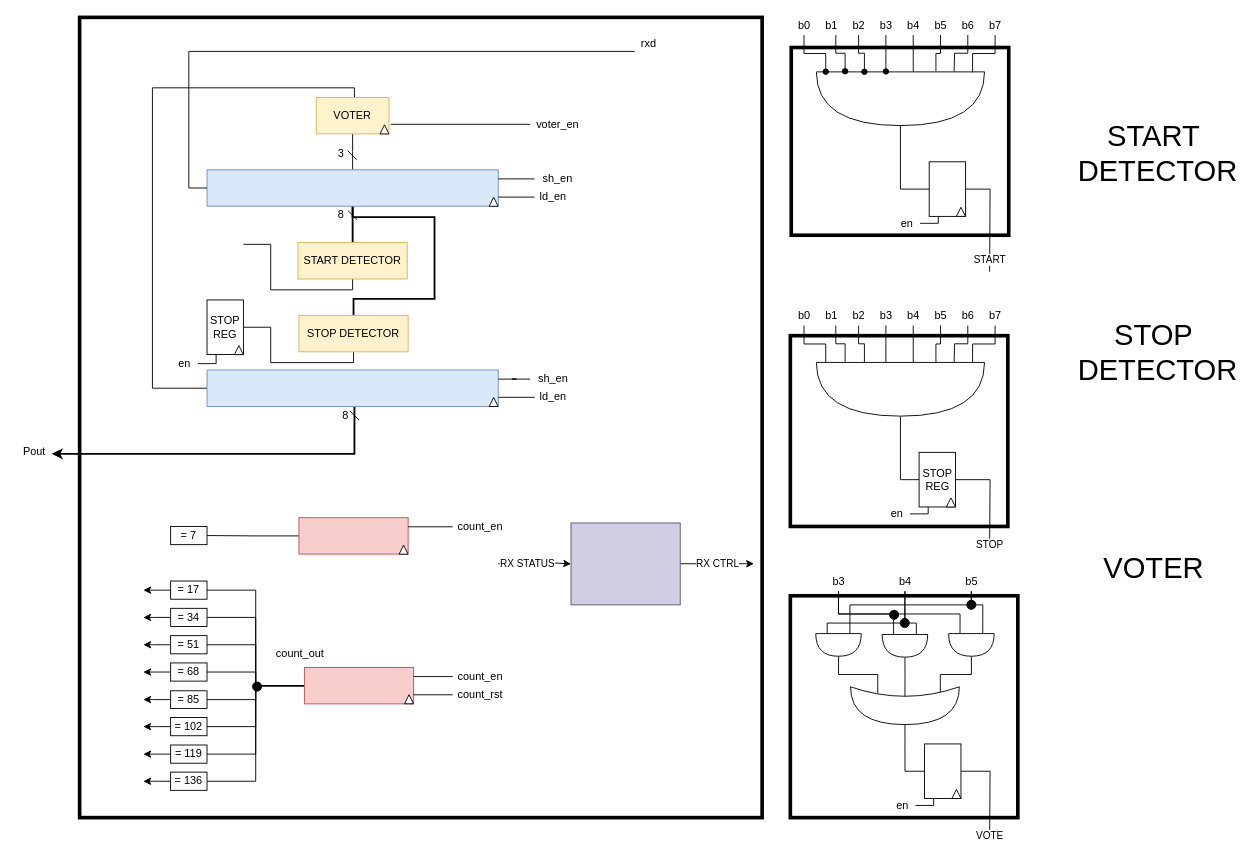
The diagram is 1259 pixels wide and 857 high, and some of its shapes have lost their labels. The centre of each missing label's shape, as x and y in pixels:
COUNTER_RX_FULL: the point at 353,535
COUNTER_SH: the point at 358,685
RX CONTROL UNIT: the point at 625,563
SHIFT REGISTER 1: the point at 352,387
SHIFT REGISTER 2: the point at 352,187
START REG: the point at 947,188
VOTER REG: the point at 942,771
